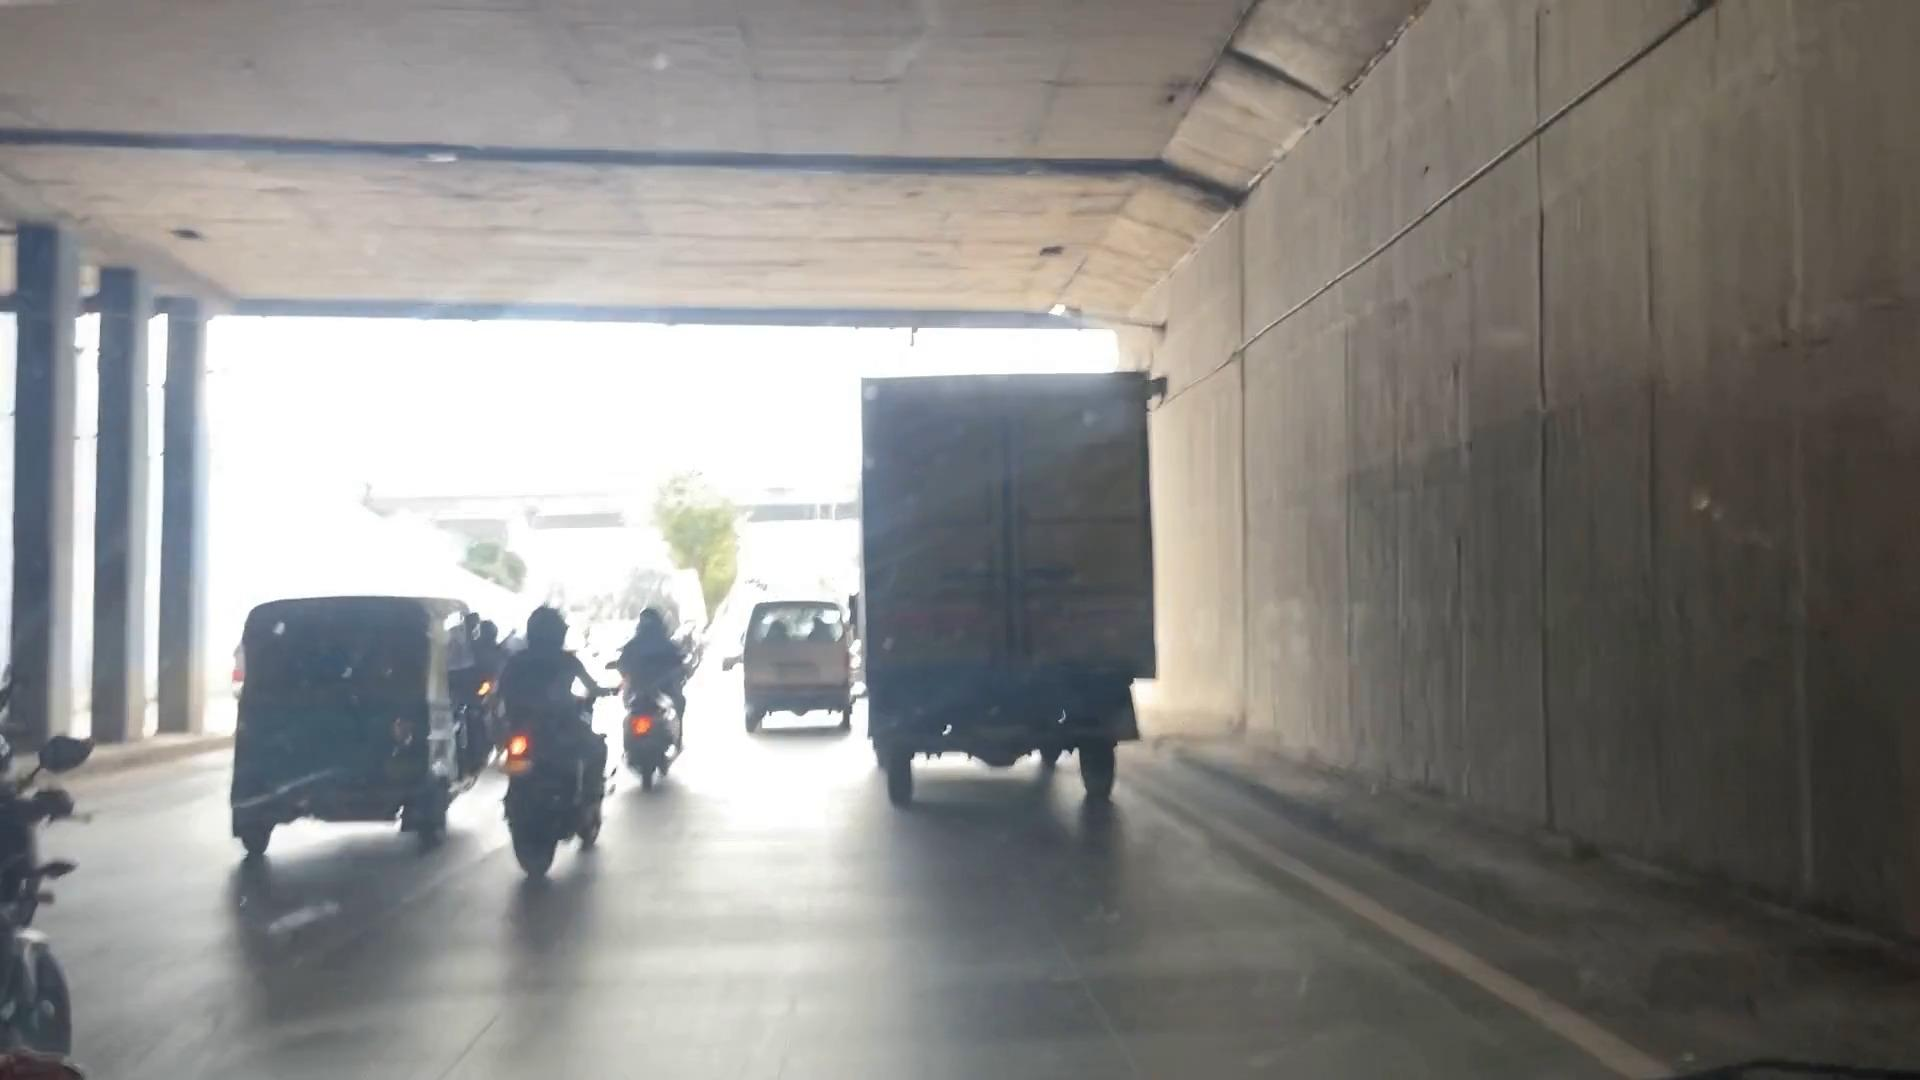HMV: (863, 377, 1155, 799)
LMV: (513, 583, 590, 874), (743, 590, 854, 734), (625, 590, 700, 798)
